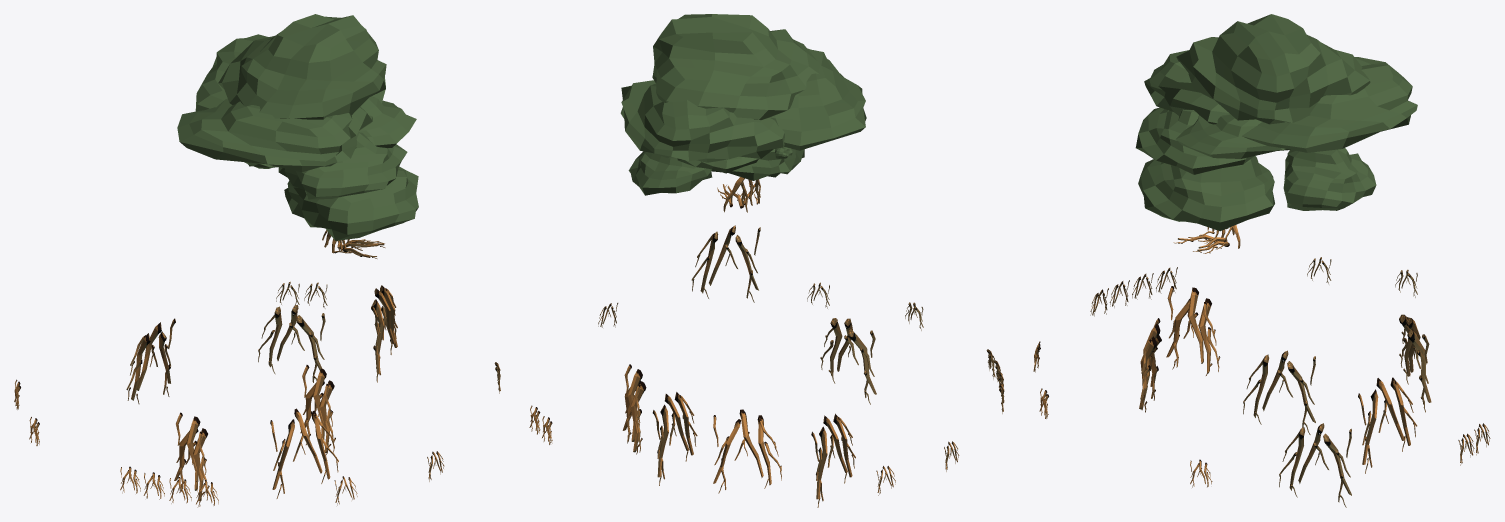
File: Laputa_arbre.glb
3 renders of one model, left to right at view 1: azimuth 30°, elevation 25°; view 2: azimuth 150°, elevation 25°; view 3: azimuth 270°, elevation 25°, orthographic. The views are drawn at different scales.
Parts seen in each view (by area): view 1: CommonTree_1.002, CommonTree_1.001, CommonTree_1.008, CommonTree_1.006, CommonTree_1.004, CommonTree_1, tree_roots_Cylinder.013, tree_roots_Cylinder.015, tree_roots_Cylinder.016, tree_roots_Cylinder.014, tree_roots_Cylinder.017, tree_roots_Cylinder.018 (+1 smaller); view 2: CommonTree_1.002, CommonTree_1, CommonTree_1.001, CommonTree_1.009, tree_roots_Cylinder.015, tree_roots_Cylinder.017, tree_roots_Cylinder.016, tree_roots_Cylinder.013, tree_roots_Cylinder.018, CommonTree_1.008, tree_roots_Cylinder.014, tree_roots_Cylinder.007 (+1 smaller); view 3: CommonTree_1.002, CommonTree_1, CommonTree_1.008, CommonTree_1.009, CommonTree_1.006, CommonTree_1.004, CommonTree_1.001, tree_roots_Cylinder.018, tree_roots_Cylinder.014, tree_roots_Cylinder.017, tree_roots_Cylinder.016, tree_roots_Cylinder.015 (+2 smaller).
Part boxes in pixels (left/top/right/bottom): CommonTree_1.002: left=218, top=14, right=386, bottom=119; CommonTree_1.001: left=177, top=98, right=372, bottom=172; CommonTree_1.008: left=284, top=166, right=418, bottom=240; CommonTree_1.006: left=278, top=132, right=407, bottom=199; CommonTree_1.004: left=358, top=96, right=416, bottom=148; CommonTree_1: left=195, top=34, right=385, bottom=111; tree_roots_Cylinder.013: left=270, top=408, right=338, bottom=498; tree_roots_Cylinder.015: left=126, top=318, right=175, bottom=404; tree_roots_Cylinder.016: left=174, top=412, right=209, bottom=502; tree_roots_Cylinder.014: left=258, top=305, right=325, bottom=382; tree_roots_Cylinder.017: left=300, top=365, right=335, bottom=454; tree_roots_Cylinder.018: left=371, top=285, right=397, bottom=382; CommonTree_1.002: left=652, top=14, right=820, bottom=120; CommonTree_1: left=620, top=80, right=784, bottom=162; CommonTree_1.001: left=769, top=48, right=866, bottom=150; CommonTree_1.009: left=628, top=151, right=712, bottom=195; tree_roots_Cylinder.015: left=713, top=409, right=781, bottom=493; tree_roots_Cylinder.017: left=652, top=392, right=697, bottom=485; tree_roots_Cylinder.016: left=811, top=413, right=855, bottom=507; tree_roots_Cylinder.013: left=820, top=318, right=876, bottom=404; tree_roots_Cylinder.018: left=691, top=225, right=760, bottom=302; CommonTree_1.008: left=711, top=149, right=804, bottom=180; tree_roots_Cylinder.014: left=622, top=364, right=646, bottom=454; tree_roots_Cylinder.007: left=717, top=177, right=760, bottom=212; CommonTree_1.002: left=1176, top=14, right=1370, bottom=124; CommonTree_1: left=1242, top=57, right=1417, bottom=152; CommonTree_1.008: left=1138, top=156, right=1274, bottom=231; CommonTree_1.009: left=1283, top=148, right=1376, bottom=210; CommonTree_1.006: left=1135, top=107, right=1254, bottom=174; CommonTree_1.004: left=1175, top=114, right=1290, bottom=158; CommonTree_1.001: left=1144, top=50, right=1229, bottom=124; tree_roots_Cylinder.018: left=1166, top=286, right=1220, bottom=375; tree_roots_Cylinder.014: left=1358, top=377, right=1417, bottom=473; tree_roots_Cylinder.017: left=1279, top=423, right=1351, bottom=507; tree_roots_Cylinder.016: left=1243, top=350, right=1315, bottom=434; tree_roots_Cylinder.015: left=1399, top=314, right=1431, bottom=412.
Size of the model in its own units: 1295 by 1354 by 1197.
Materials: 2 (1 with a texture image).
